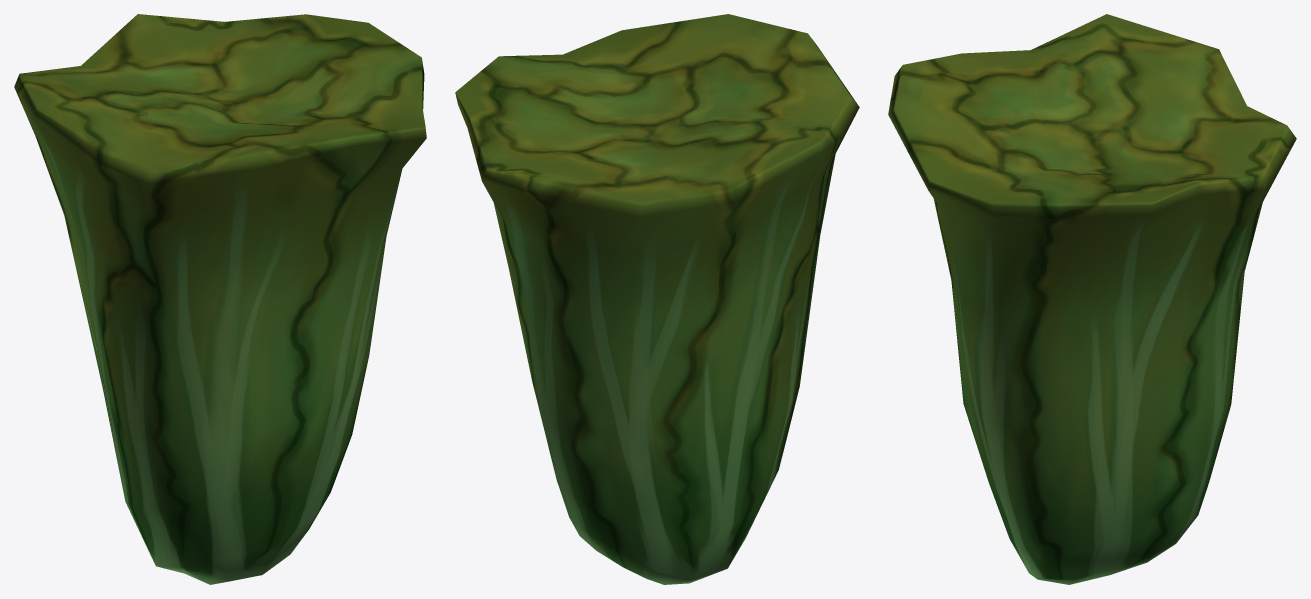
The model's file is almeirão inteiro.fbx.
The picture shows the model from 3 angles, left to right: view 1: azimuth 30°, elevation 25°; view 2: azimuth 150°, elevation 25°; view 3: azimuth 270°, elevation 25°; orthographic projection. The views are drawn at different scales.
Visible parts, largest first — view 1: almeirão:Group29886; view 2: almeirão:Group29886; view 3: almeirão:Group29886.
Boxes of the visible parts, box(x1,y1,x2,y2) form: almeirão:Group29886: box(14, 14, 426, 584); almeirão:Group29886: box(455, 14, 859, 584); almeirão:Group29886: box(888, 14, 1296, 584).
Size of the model in its own units: 22.86 by 30.38 by 22.96.
